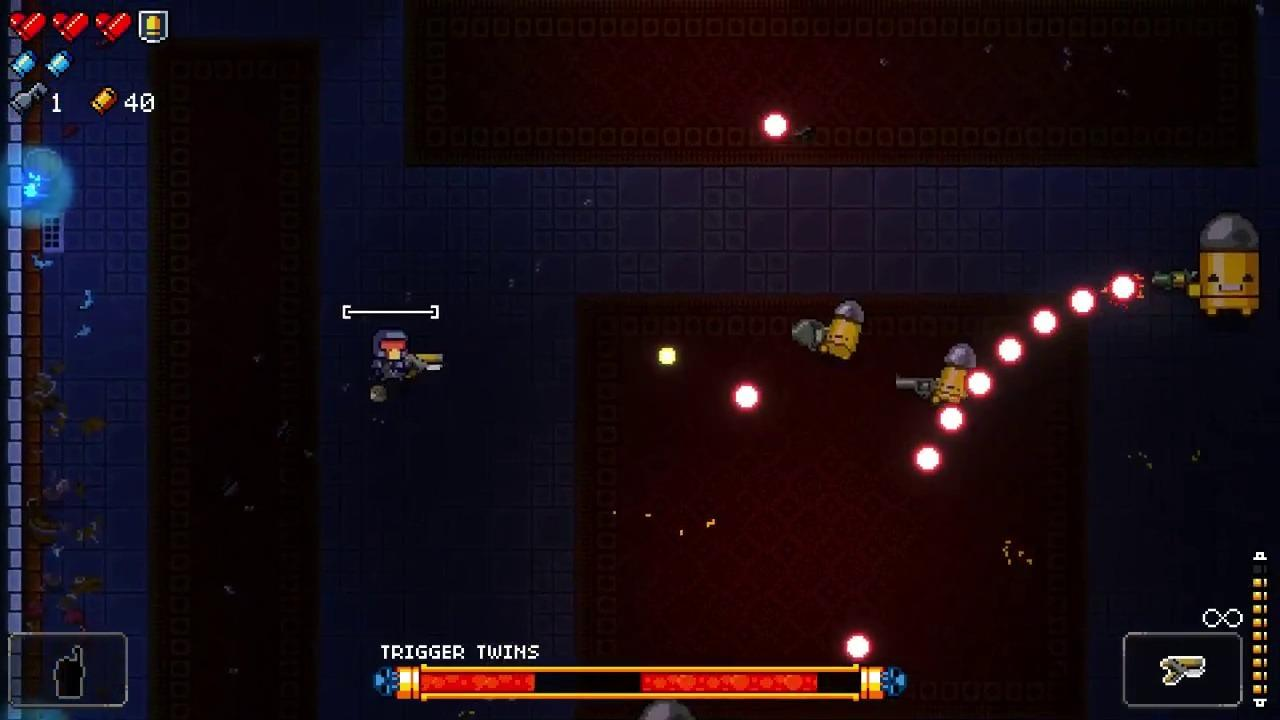boss_smiley: (1199, 213, 1260, 319)
bullet: (728, 380, 762, 413), (911, 444, 943, 479), (841, 632, 875, 664), (1068, 285, 1097, 319), (996, 336, 1027, 367), (1028, 309, 1060, 337), (1108, 274, 1138, 303), (937, 406, 966, 435), (966, 369, 993, 400), (764, 113, 787, 141)
bullet_kin: (928, 346, 977, 406), (820, 299, 863, 361)
player: (370, 327, 410, 379)
